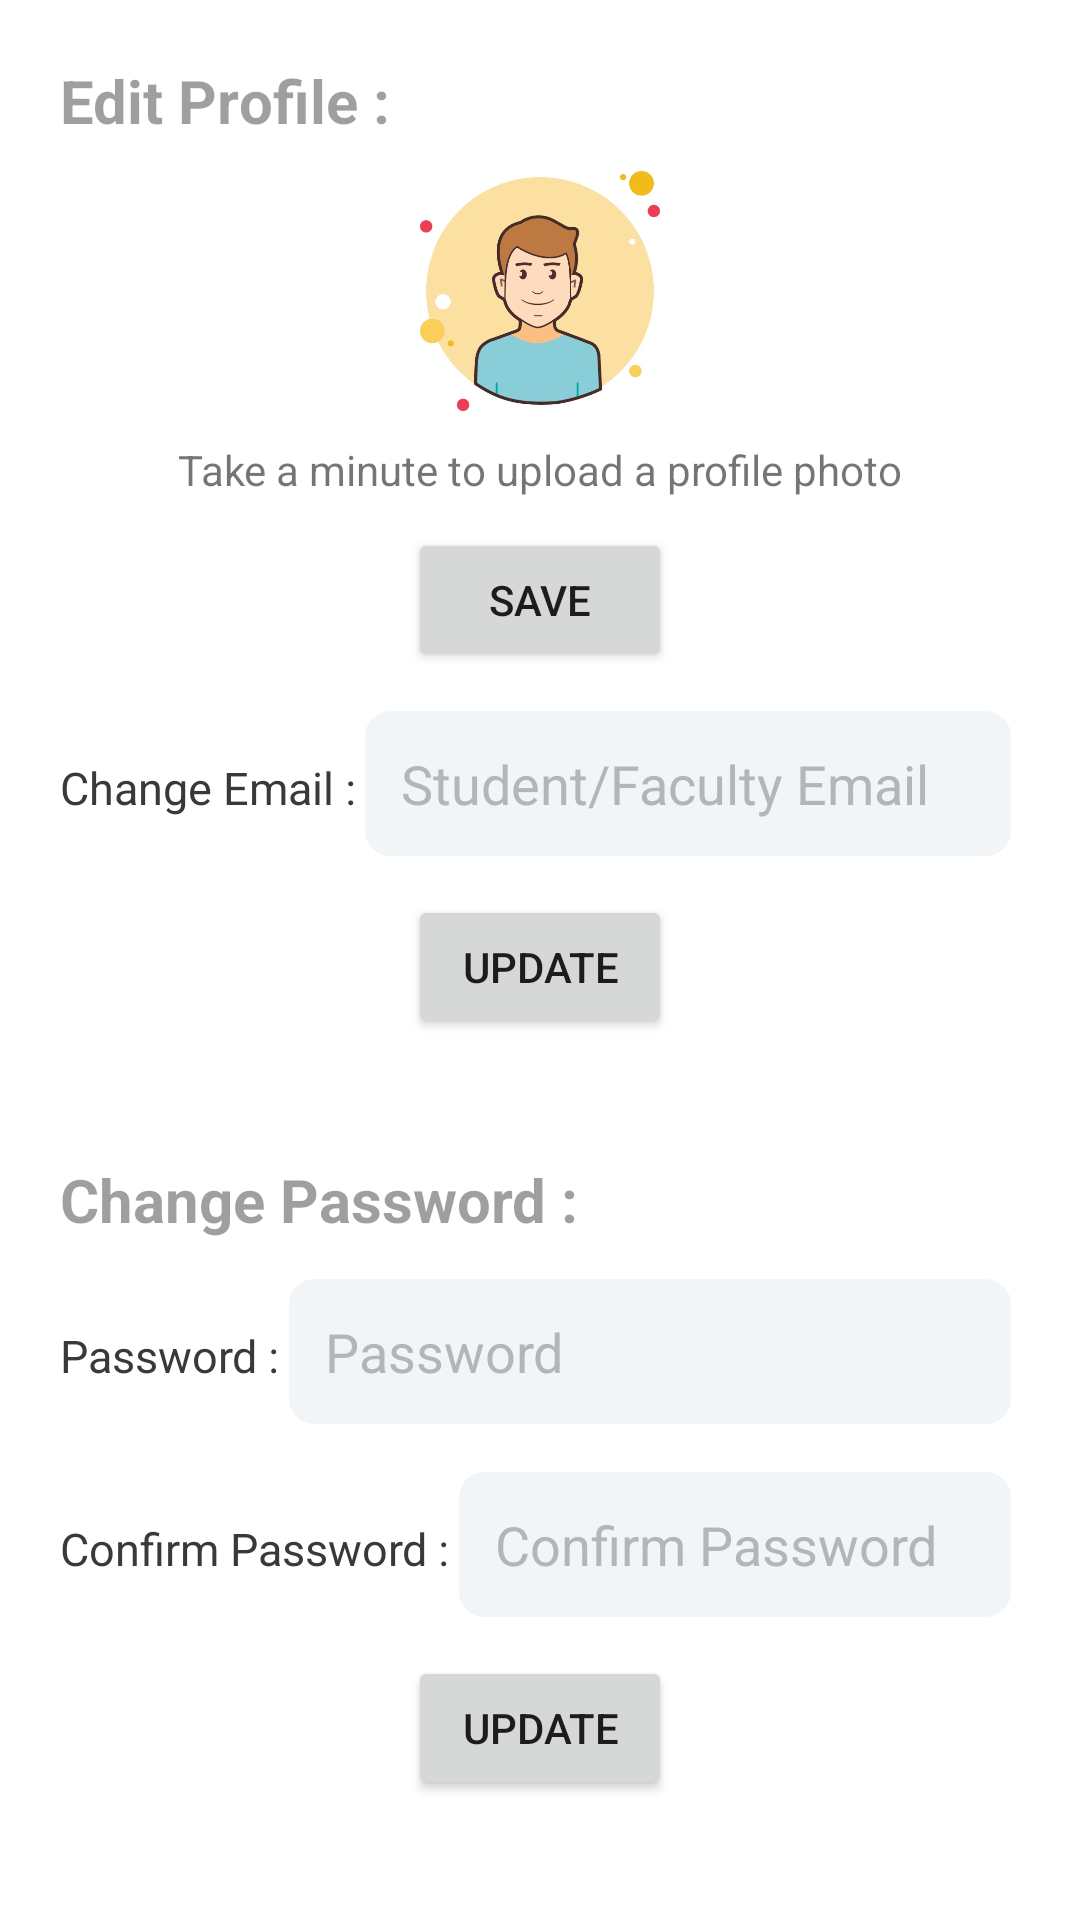

Icons on this 1080x1920 Android screen, each with its box as (x1, y1, x2, y2):
user: (420, 171, 660, 411)
